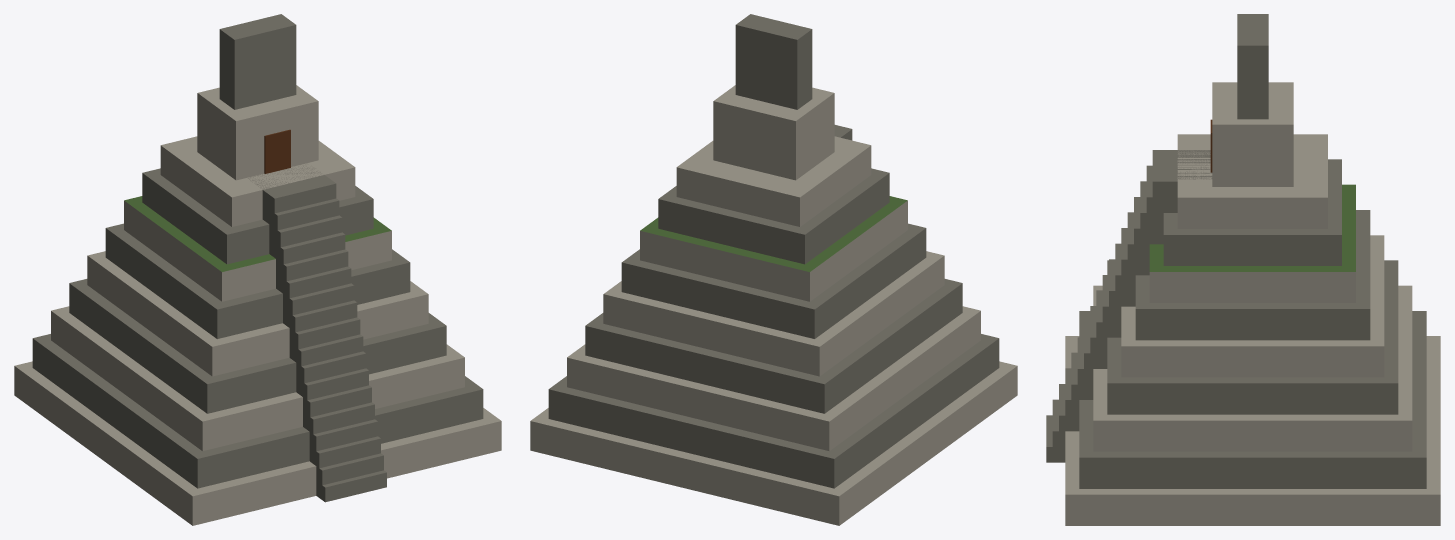
File: piramide.obj
3 renders of one model, left to right at view 1: azimuth 30°, elevation 25°; view 2: azimuth 150°, elevation 25°; view 3: azimuth 270°, elevation 25°, orthographic. The views are drawn at different scales.
Parts seen in each view (by area): view 1: piramide; view 2: piramide; view 3: piramide.
Boxes of the visible parts, x1,y1,x2,y2 form: piramide: [14, 14, 501, 525]; piramide: [530, 14, 1017, 525]; piramide: [1046, 14, 1440, 525].
Size of the model in its own units: 1.2 by 1.47 by 1.26.
